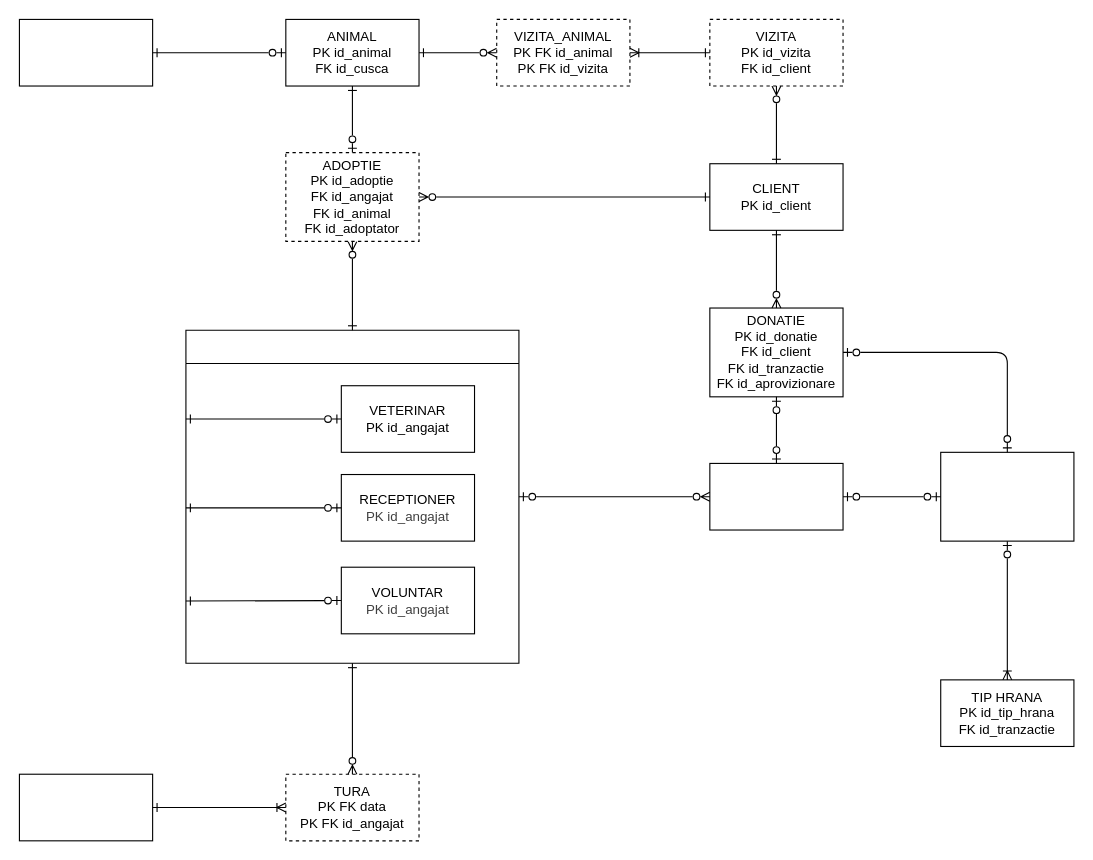
Image size: 1093x860. Some labels were removed from this diagram. Each missing label, with the box of its shape:
ANGAJAT PK id_angajat: (185, 329, 519, 663)
APROVIZIONARE HRANA PK id_aprovizionare FK id_tranzactie: (940, 451, 1074, 541)
CUSCA PK id_cusca: (18, 18, 153, 86)
PROGRAM ZI PK data: (18, 773, 153, 841)
TRANZACTIE PK id_tranzactie FK id_angajat: (709, 462, 843, 530)
